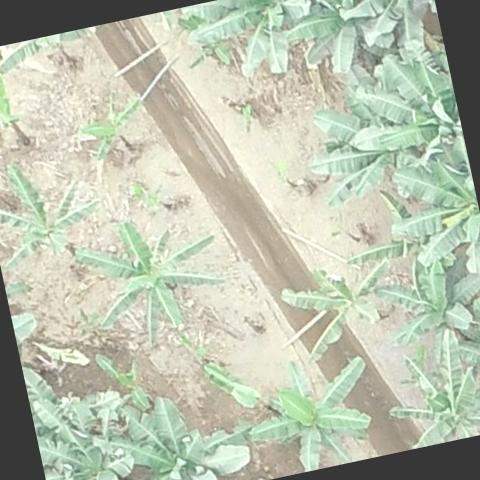Banana-plant: (78, 204, 235, 349), (231, 340, 391, 480), (369, 124, 480, 293), (338, 35, 466, 173), (276, 246, 410, 368), (104, 382, 256, 480), (373, 318, 480, 452), (176, 0, 322, 96), (0, 151, 106, 280), (28, 376, 154, 480), (372, 232, 480, 349), (274, 0, 388, 87), (337, 0, 445, 70), (75, 83, 158, 166), (90, 341, 156, 421)
